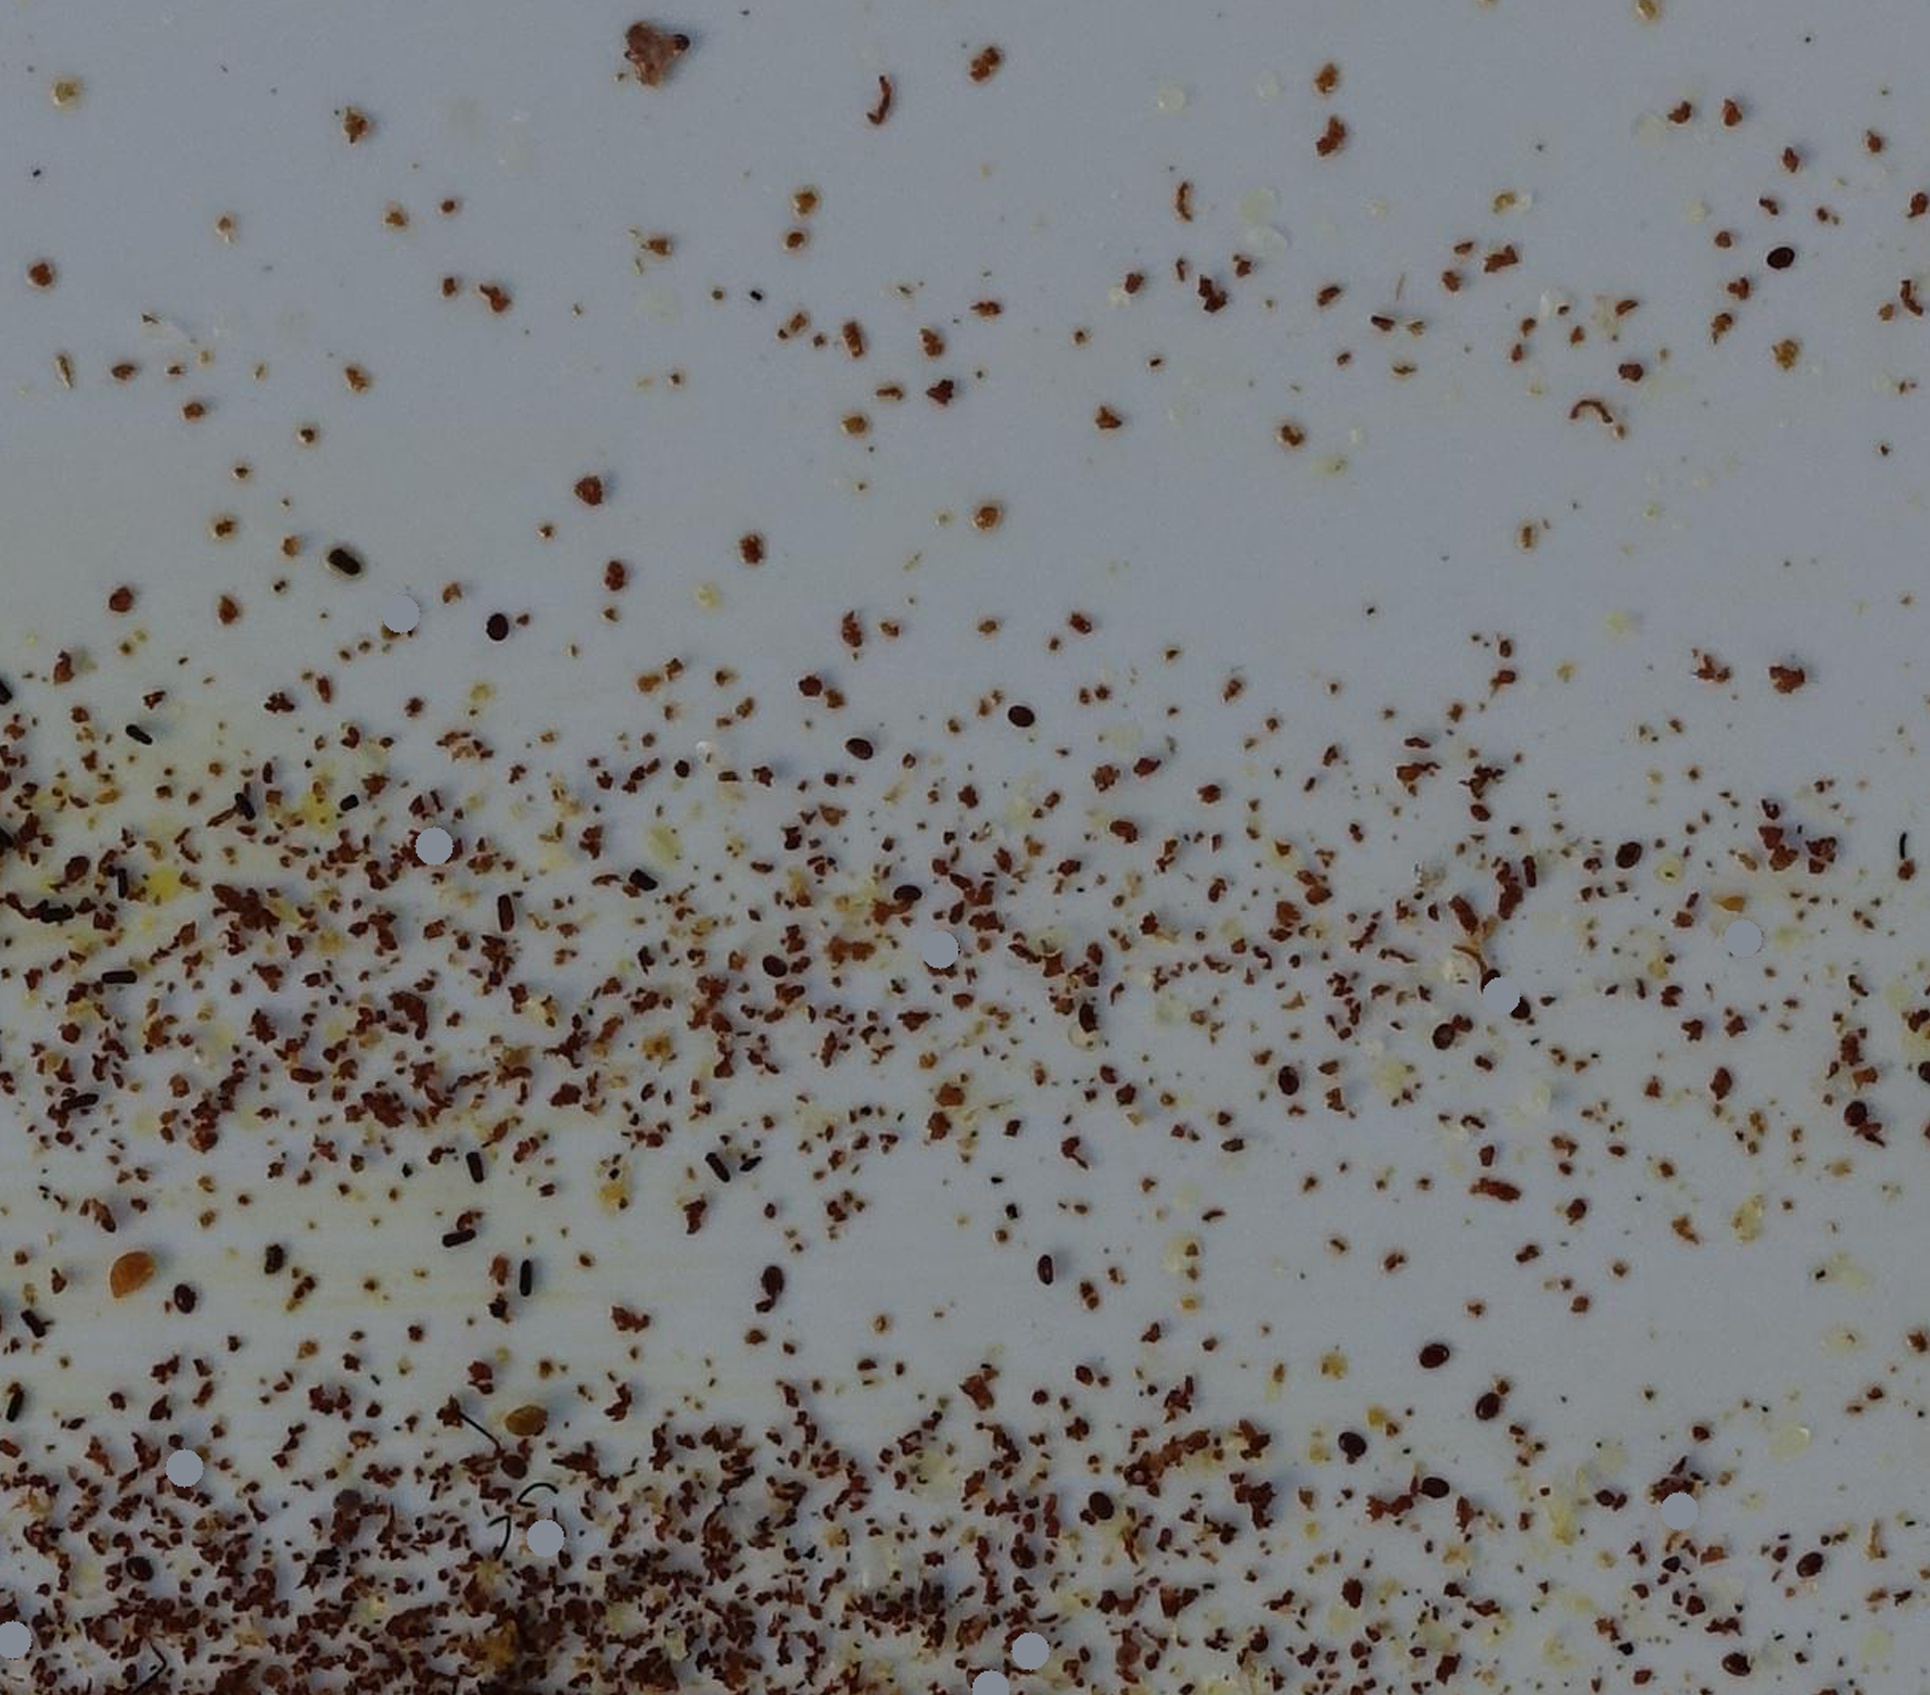Varroa: (1116, 1454, 1160, 1496), (67, 853, 94, 879), (1088, 1488, 1113, 1515), (1073, 1004, 1096, 1032), (758, 1262, 783, 1286), (1466, 981, 1490, 1006), (125, 1556, 148, 1582), (1428, 1342, 1451, 1367), (492, 1452, 515, 1477), (1479, 963, 1502, 988), (1013, 1536, 1036, 1560), (486, 615, 509, 638), (898, 889, 921, 912), (1799, 1551, 1822, 1574), (1418, 1473, 1441, 1496), (176, 1290, 197, 1313), (842, 732, 863, 755), (1001, 702, 1022, 725), (1768, 240, 1791, 261), (1723, 1652, 1745, 1675), (1505, 994, 1526, 1017), (1474, 1390, 1495, 1413), (1434, 1022, 1456, 1045), (1846, 1099, 1868, 1122), (1618, 843, 1640, 865), (1037, 1260, 1059, 1282), (1275, 1068, 1295, 1090), (1338, 1436, 1357, 1457), (761, 957, 781, 978)
